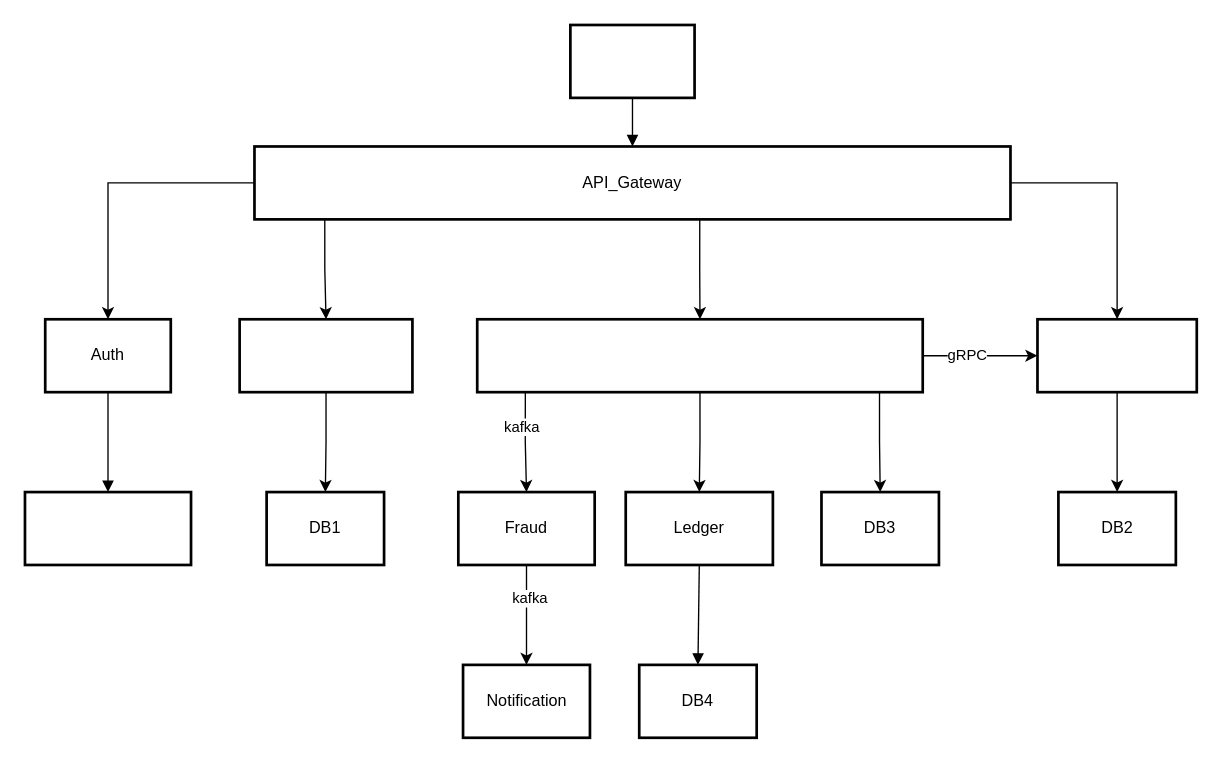
Some shapes in this 1220 by 761 pixel diagram are drawn without their labels. The centre of each missing label's shape, as x and y in pixels:
"Account" belongs at [1116,355].
"Customer" belongs at [325,355].
"Keycloak" belongs at [107,528].
"Transaction" belongs at [699,355].
"User" belongs at [631,61].
